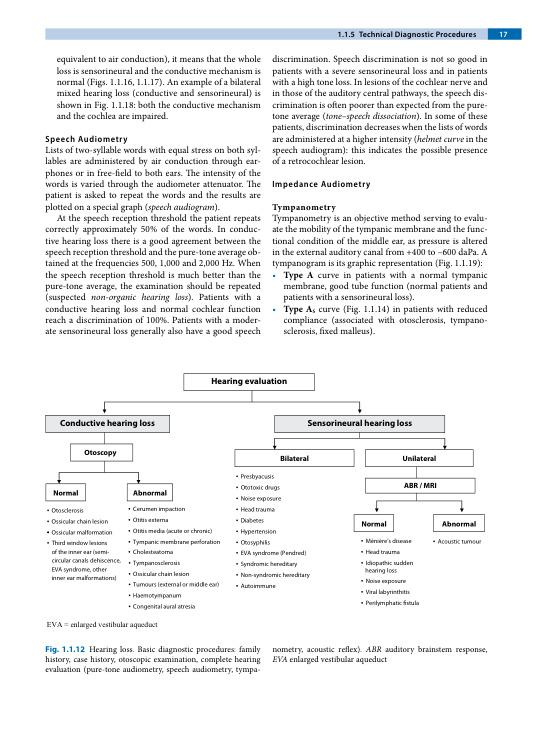caption: (43, 644, 261, 675), (270, 644, 488, 666)
header: (358, 30, 477, 40)
image: (33, 362, 498, 638)
list: (271, 270, 488, 336)
sub-section-heading: (272, 179, 371, 190), (44, 135, 129, 145), (271, 203, 337, 213)
text: (44, 145, 261, 337), (270, 53, 489, 167), (55, 54, 261, 123), (271, 213, 488, 269)
